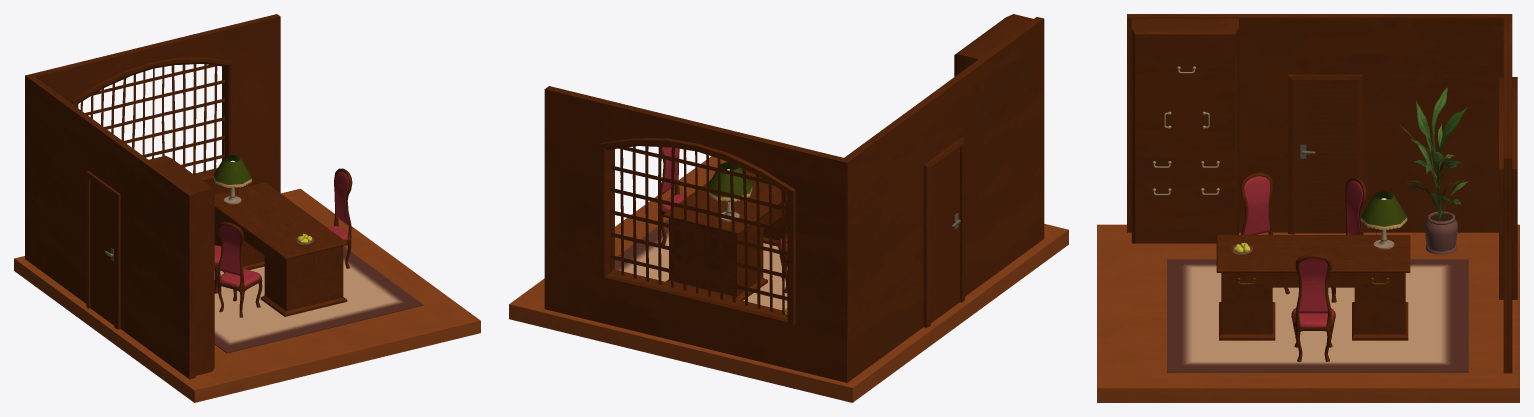
File: office_room.glb
The picture shows the model from 3 angles, left to right: view 1: azimuth 30°, elevation 25°; view 2: azimuth 150°, elevation 25°; view 3: azimuth 270°, elevation 25°; orthographic projection. The views are drawn at different scales.
Visible parts, largest first — view 1: Object_2; view 2: Object_2; view 3: Object_2.
Boxes of the visible parts, x1,y1,x2,y2 form: Object_2: (14,14,480,402); Object_2: (509,14,1068,402); Object_2: (1097,14,1519,402).
Size of the model in its own units: 2.81 by 1.84 by 3.07.
1 material, 1 textured.
